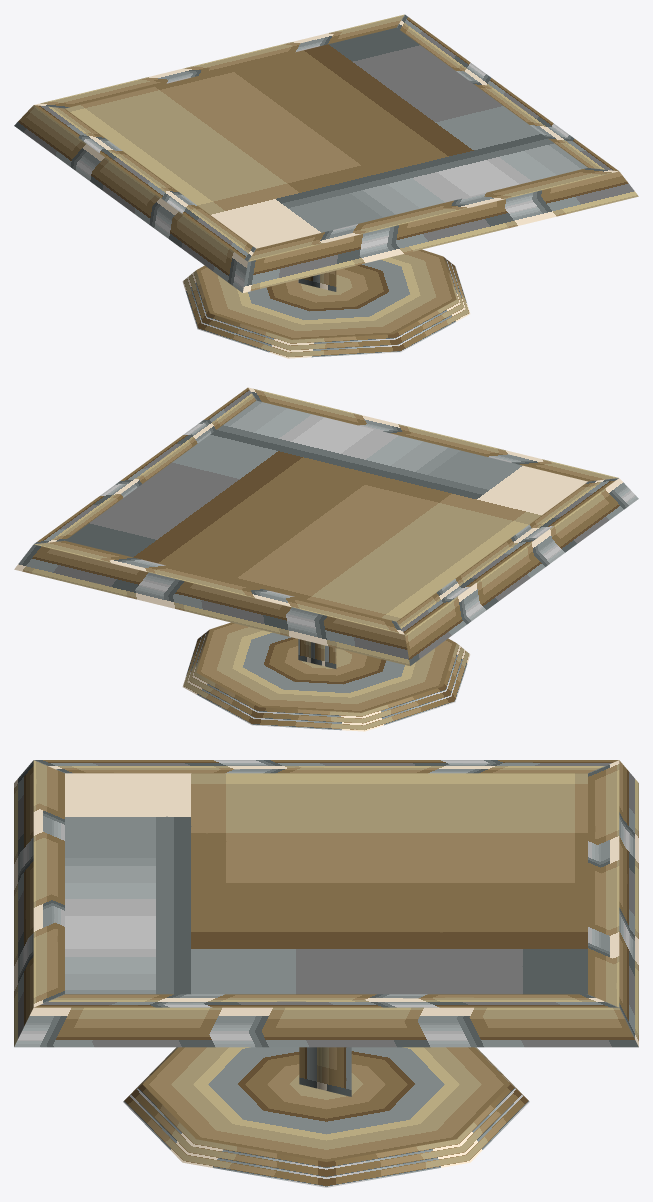
3 views of the same model, one above another, from view 1: azimuth 30°, elevation 25°; view 2: azimuth 150°, elevation 25°; view 3: azimuth 270°, elevation 25° (orthographic). The views are drawn at different scales.
Visible parts, largest first — view 1: 3597kg_08_ta0; view 2: 3597kg_08_ta0; view 3: 3597kg_08_ta0.
Boxes of the visible parts, <box> form: 3597kg_08_ta0: <box>14,14,638,358</box>; 3597kg_08_ta0: <box>14,387,638,731</box>; 3597kg_08_ta0: <box>14,760,638,1187</box>.
Bounding box in the file's own units: 1.95 × 0.75 × 1.95.
Materials: 1 (1 with a texture image).
